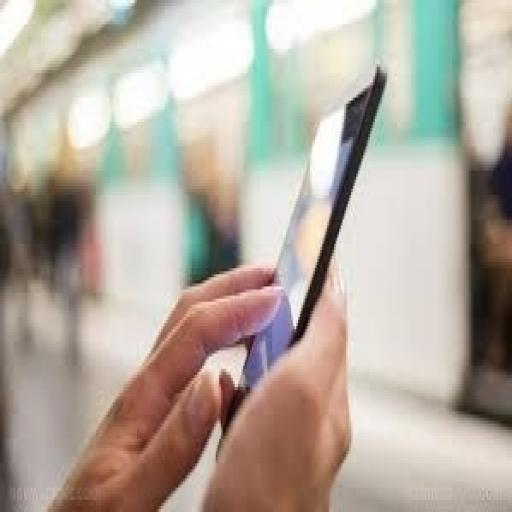texting: (29, 253, 355, 509)
